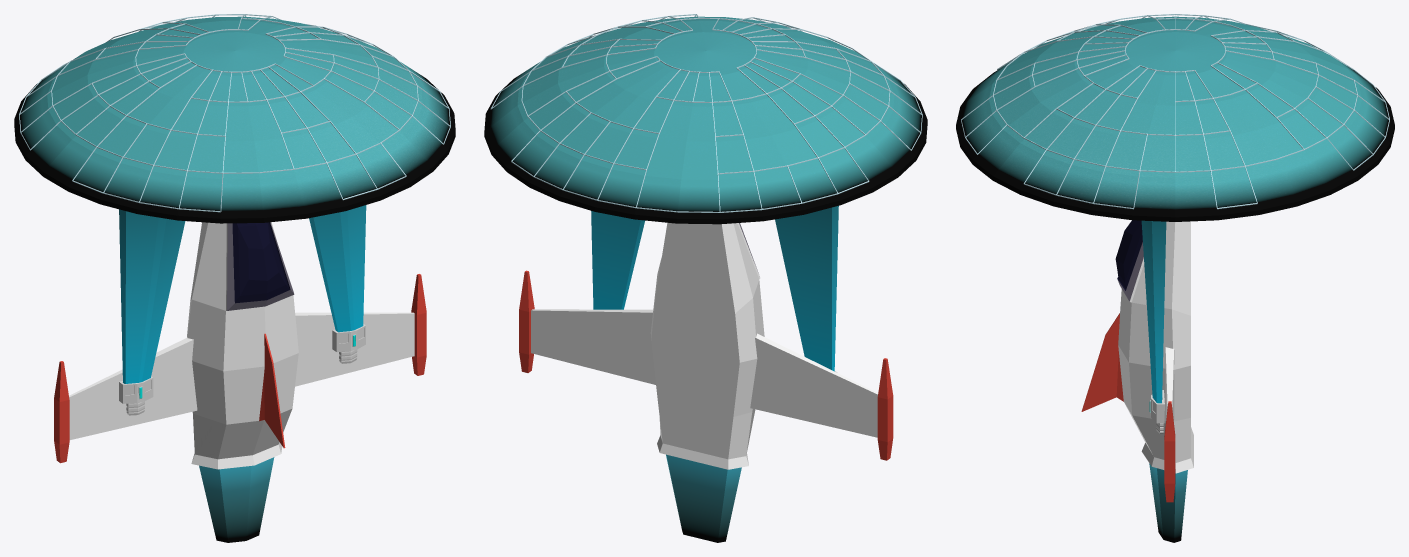
The model's file is ракета.fbx.
The picture shows the model from 3 angles, left to right: view 1: azimuth 30°, elevation 25°; view 2: azimuth 150°, elevation 25°; view 3: azimuth 270°, elevation 25°; orthographic projection.
Parts seen in each view (by area): view 1: ракета; view 2: ракета; view 3: ракета.
Boxes of the visible parts, <box> form: ракета: <box>14,14,455,542</box>; ракета: <box>484,14,927,542</box>; ракета: <box>956,14,1394,542</box>.
Bounding box in the file's own units: 694 × 839 × 694.
Materials: 10 (3 with a texture image).
